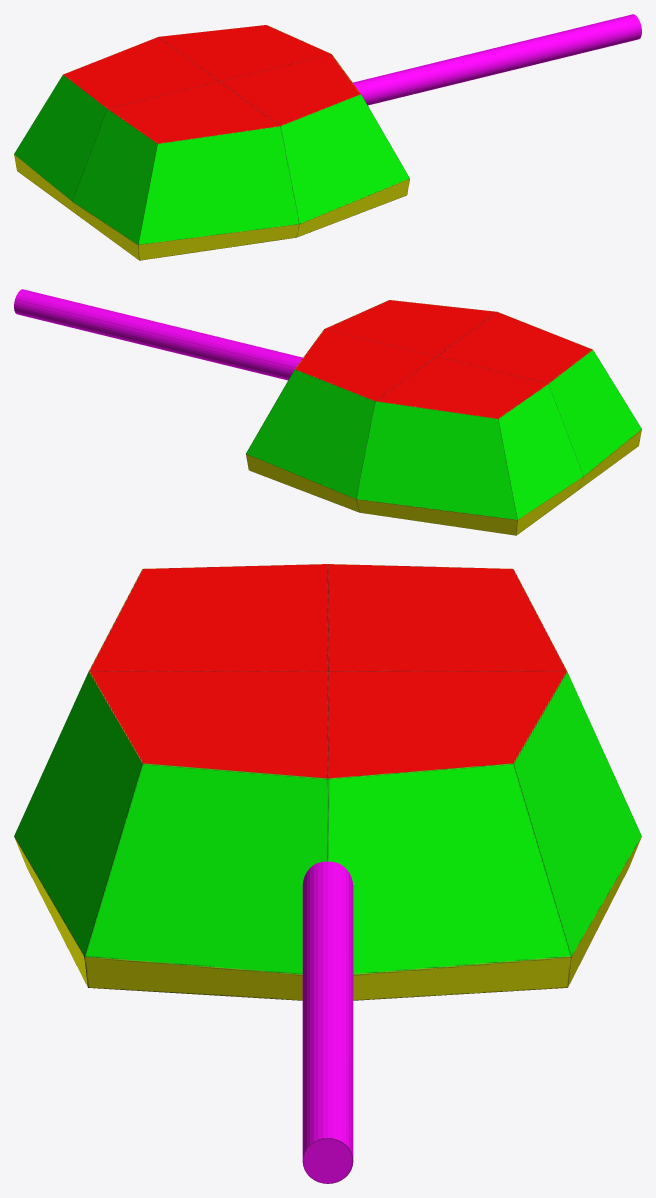
The model's file is Turret.obj.
3 renders of one model, top to bottom at view 1: azimuth 30°, elevation 25°; view 2: azimuth 150°, elevation 25°; view 3: azimuth 270°, elevation 25°, orthographic. The views are drawn at different scales.
Visible parts, largest first — view 1: Turret; view 2: Turret; view 3: Turret.
Part boxes in pixels (<box>): Turret: <box>14,14,641,260</box>; Turret: <box>14,289,641,535</box>; Turret: <box>14,564,641,1183</box>.
Size of the model in its own units: 5.02 by 0.851 by 2.47.
